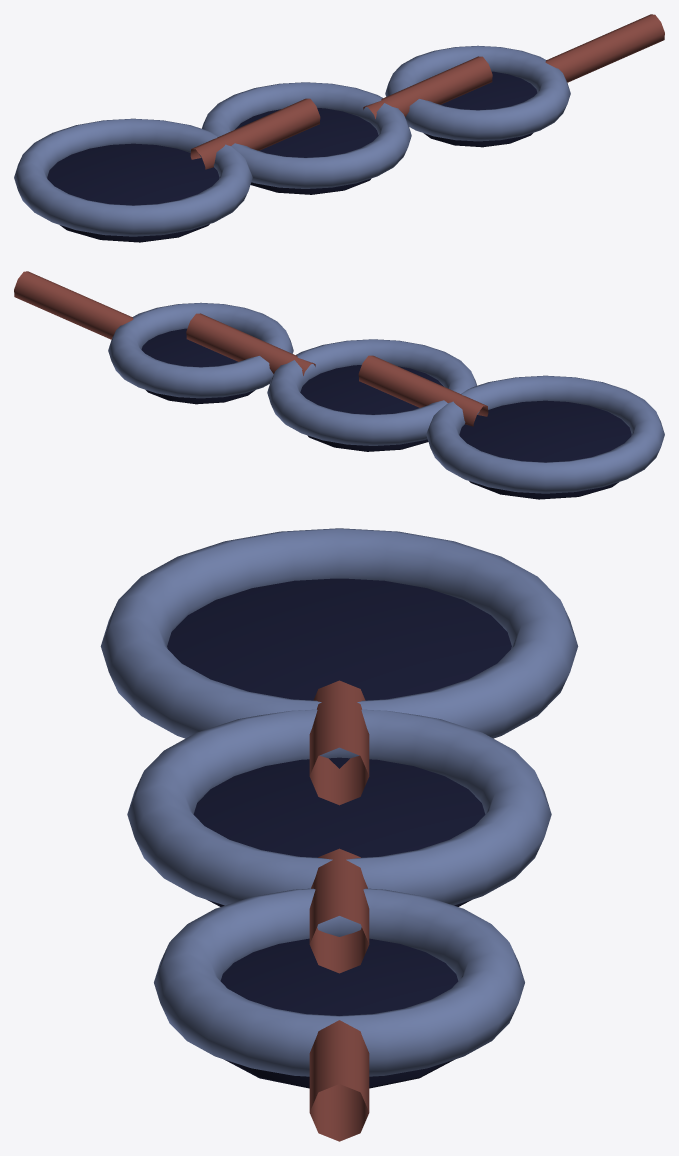
File: r037_castle_kitchen_pans_pans.glb
3 renders of one model, top to bottom at view 1: azimuth 30°, elevation 25°; view 2: azimuth 150°, elevation 25°; view 3: azimuth 270°, elevation 25°, orthographic. The views are drawn at different scales.
Parts seen in each view (by area): view 1: r037_castle_kitchen_pans_pans.001; view 2: r037_castle_kitchen_pans_pans.001; view 3: r037_castle_kitchen_pans_pans.001.
Part boxes in pixels (bbox=[...]): r037_castle_kitchen_pans_pans.001: bbox=[14, 14, 664, 242]; r037_castle_kitchen_pans_pans.001: bbox=[14, 271, 664, 499]; r037_castle_kitchen_pans_pans.001: bbox=[100, 528, 578, 1141].
Bounding box in the file's own units: 4.39 × 0.4185 × 1.44.
